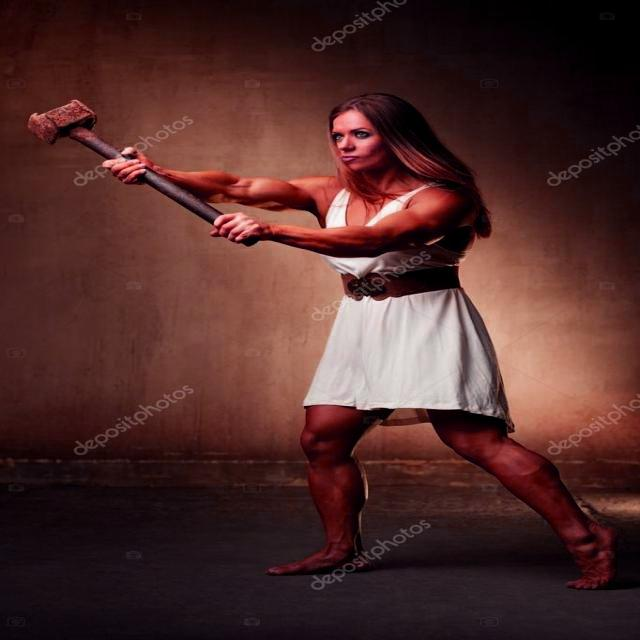hammer: (19, 92, 248, 258)
